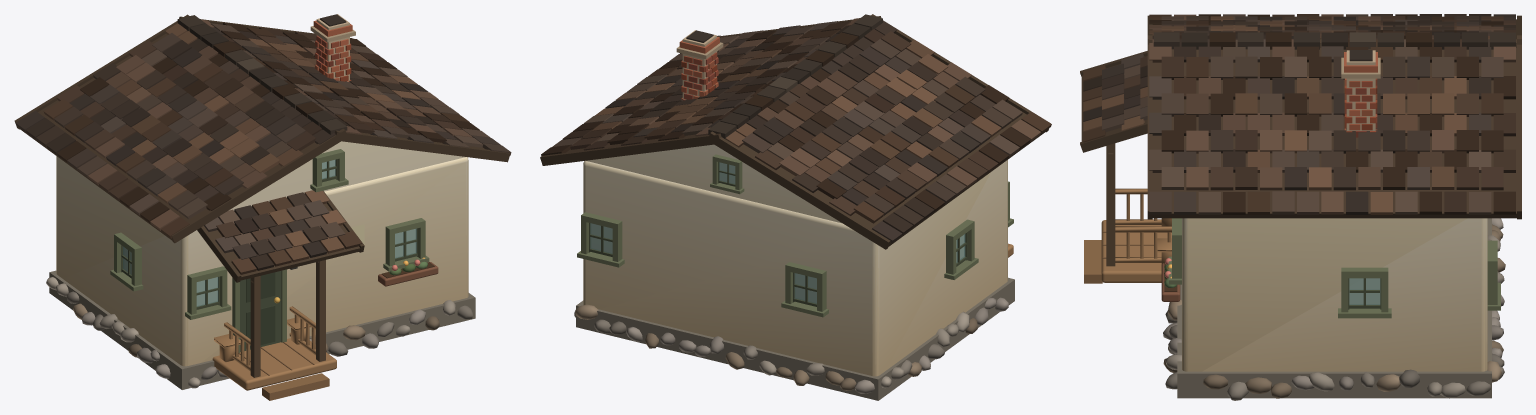
File: farmhouse.fixed.glb
3 views of the same model, side by side, from view 1: azimuth 30°, elevation 25°; view 2: azimuth 150°, elevation 25°; view 3: azimuth 270°, elevation 25° (orthographic). The views are drawn at different scales.
Parts seen in each view (by area): view 1: farmhousebatch0, farmhouseWalls, farmhouseFoundation, farmhousebatch1, farmhousebatch2, porch, frontDoor, chimney, porchRailAndSeats, windowFrame_3, windowPane, windowPane_1; view 2: farmhouseWalls, farmhousebatch0, farmhouseFoundation, chimney, windowFrame, windowFrame_1, windowFrame_3, windowFrame_2, windowPane_4, windowPane_5; view 3: farmhousebatch0, farmhouseWalls, farmhouseFoundation, chimney, farmhousebatch1, farmhousebatch2, porch, porchRailAndSeats, windowFrame, windowPane_2.
Boxes of the visible parts, x1,y1,x2,y2 form: farmhousebatch0: (14, 14, 511, 282); farmhouseWalls: (56, 141, 468, 366); farmhouseFoundation: (46, 270, 475, 389); farmhousebatch1: (238, 257, 438, 400); farmhousebatch2: (185, 149, 429, 319); porch: (212, 338, 336, 390); frontDoor: (232, 269, 286, 352); chimney: (310, 14, 355, 81); porchRailAndSeats: (214, 306, 315, 371); windowFrame_3: (110, 232, 143, 291); windowPane: (196, 277, 218, 306); windowPane_1: (395, 228, 416, 258); farmhouseWalls: (583, 144, 1007, 376); farmhousebatch0: (540, 14, 1051, 249); farmhouseFoundation: (574, 277, 1014, 400); chimney: (676, 30, 723, 100); windowFrame: (577, 212, 624, 267); windowFrame_1: (781, 262, 828, 317); windowFrame_3: (944, 219, 978, 279); windowFrame_2: (710, 154, 744, 194); windowPane_4: (590, 223, 612, 253); windowPane_5: (794, 273, 816, 303); farmhousebatch0: (1080, 14, 1521, 219); farmhouseWalls: (1182, 218, 1487, 371); farmhouseFoundation: (1163, 218, 1505, 400); chimney: (1341, 50, 1380, 137); farmhousebatch1: (1084, 143, 1180, 301); farmhousebatch2: (1168, 218, 1391, 318); porch: (1101, 220, 1171, 282); porchRailAndSeats: (1115, 188, 1171, 264); windowFrame: (1487, 240, 1500, 310); windowPane_2: (1349, 278, 1380, 304).
Size of the model in its own units: 8.57 by 6.26 by 8.09.
